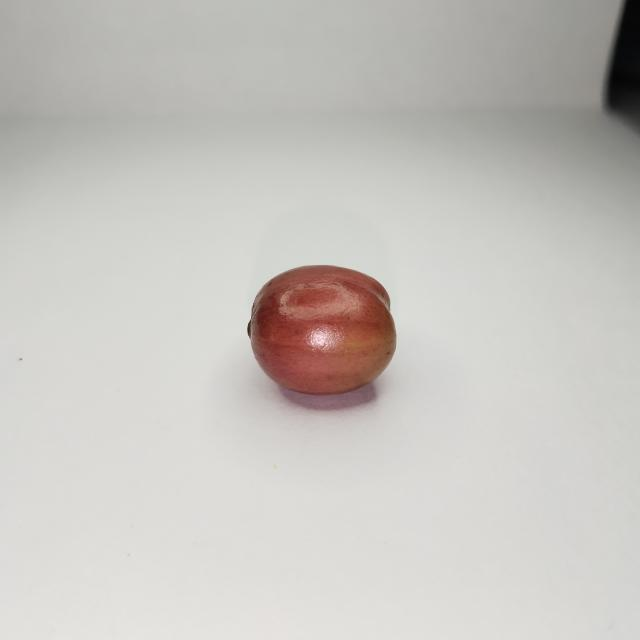Sano: (247, 265, 395, 406)
